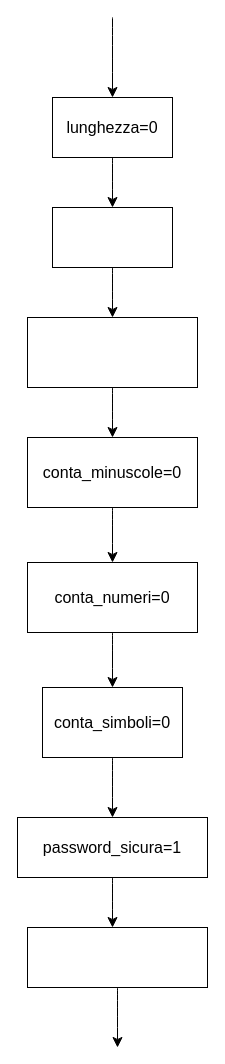
This 225x1064 diagram has some shape labels left out. The shapes that lost their labels are listed below. From the top down, each one's box as (x1, y1, x2, y2) in pixels, then its label:
(52, 206, 172, 268): i=0
(26, 316, 198, 388): conta_maiuscole=0
(26, 926, 208, 988): password_stampta=0
